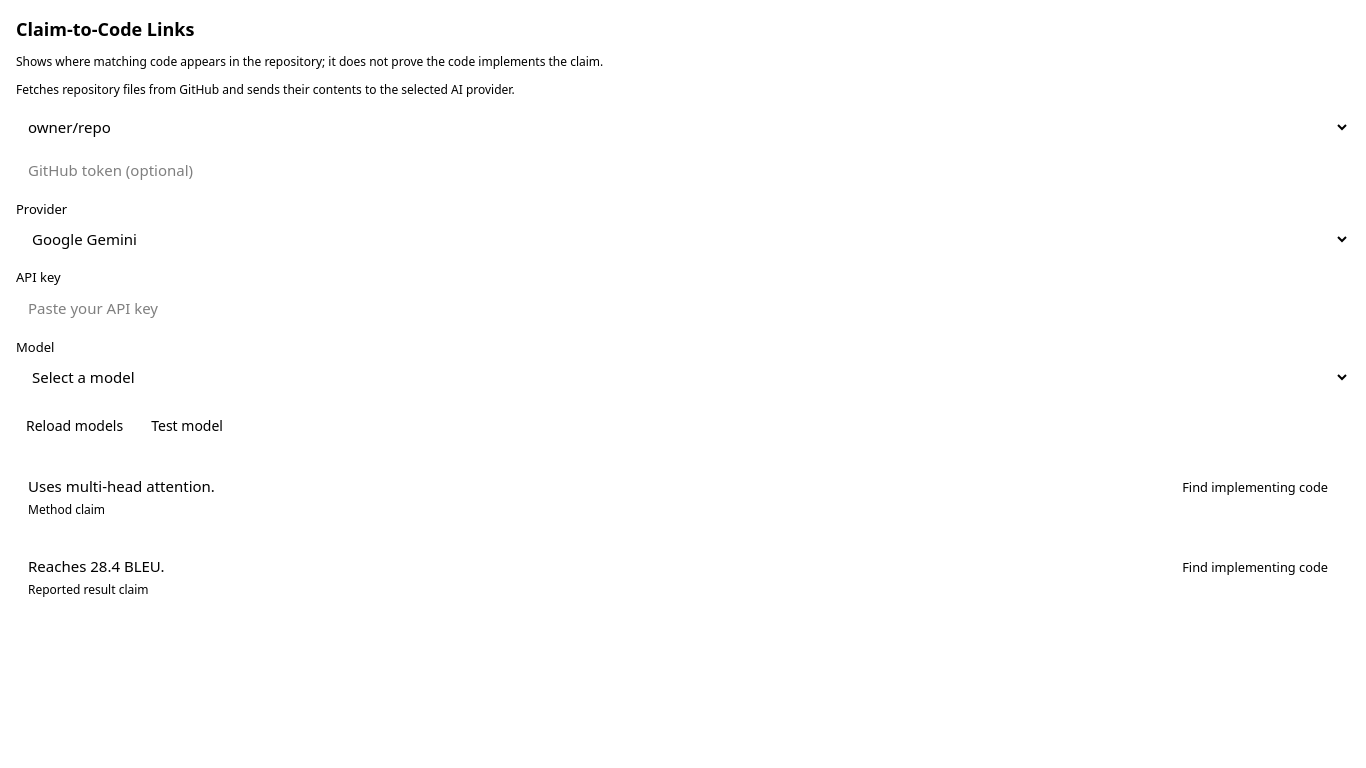
CodeLinksPanel › shows a specific message on 429
Type "test-key" into the password field labelled "API key" at (683, 308), box [16, 290, 1350, 326]
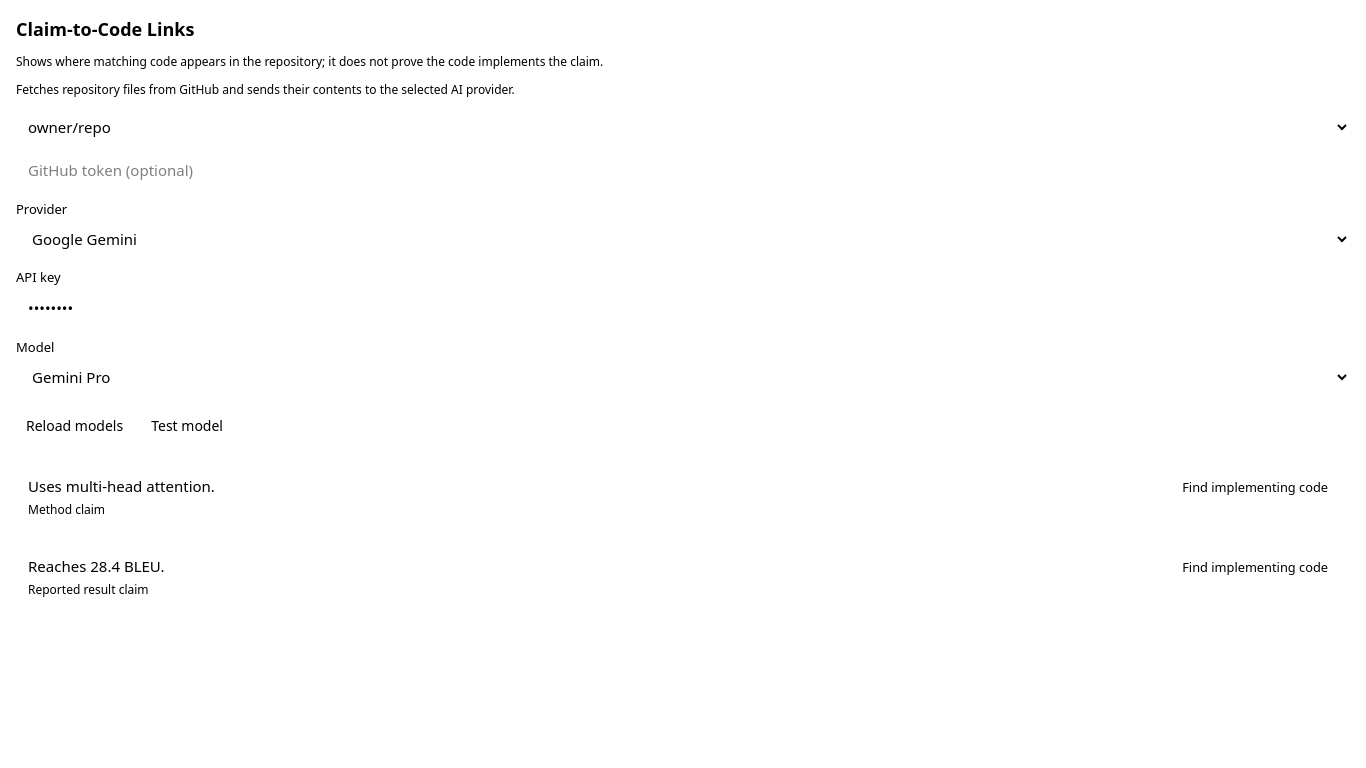
Click the button "Find implementing code" in the row of "Uses multi-head attention." at (1255, 488), box [1172, 474, 1338, 502]
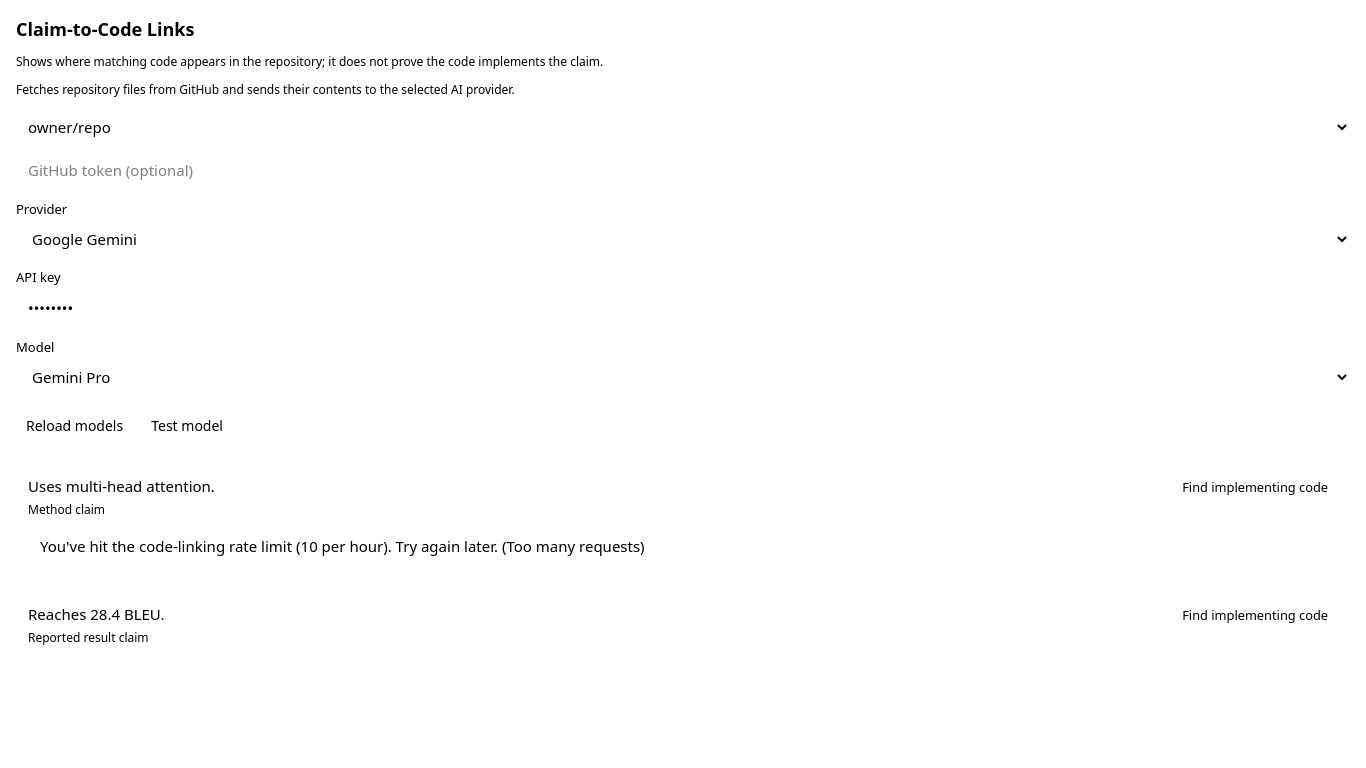
Expected: the message shows "code-linking rate limit (10 per hour)", [40, 536, 645, 556]
